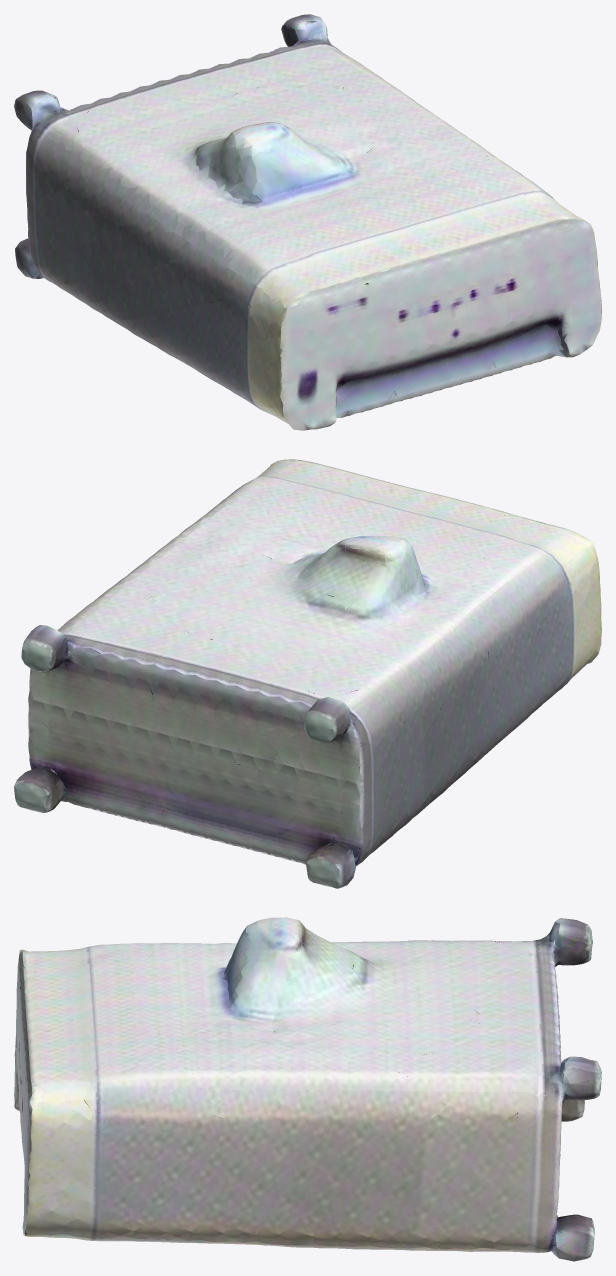
File: spar3d.glb
3 renders of one model, top to bottom at view 1: azimuth 30°, elevation 25°; view 2: azimuth 150°, elevation 25°; view 3: azimuth 270°, elevation 25°, orthographic. The views are drawn at different scales.
Parts seen in each view (by area): view 1: world; view 2: world; view 3: world.
Boxes of the visible parts, x1=… form: world: x1=14, y1=14, x2=601, y2=430; world: x1=14, y1=459, x2=601, y2=888; world: x1=14, y1=917, x2=601, y2=1261.
Bounding box in the file's own units: 0.7258 × 0.452 × 1.01.
Materials: 1 (1 with a texture image).
